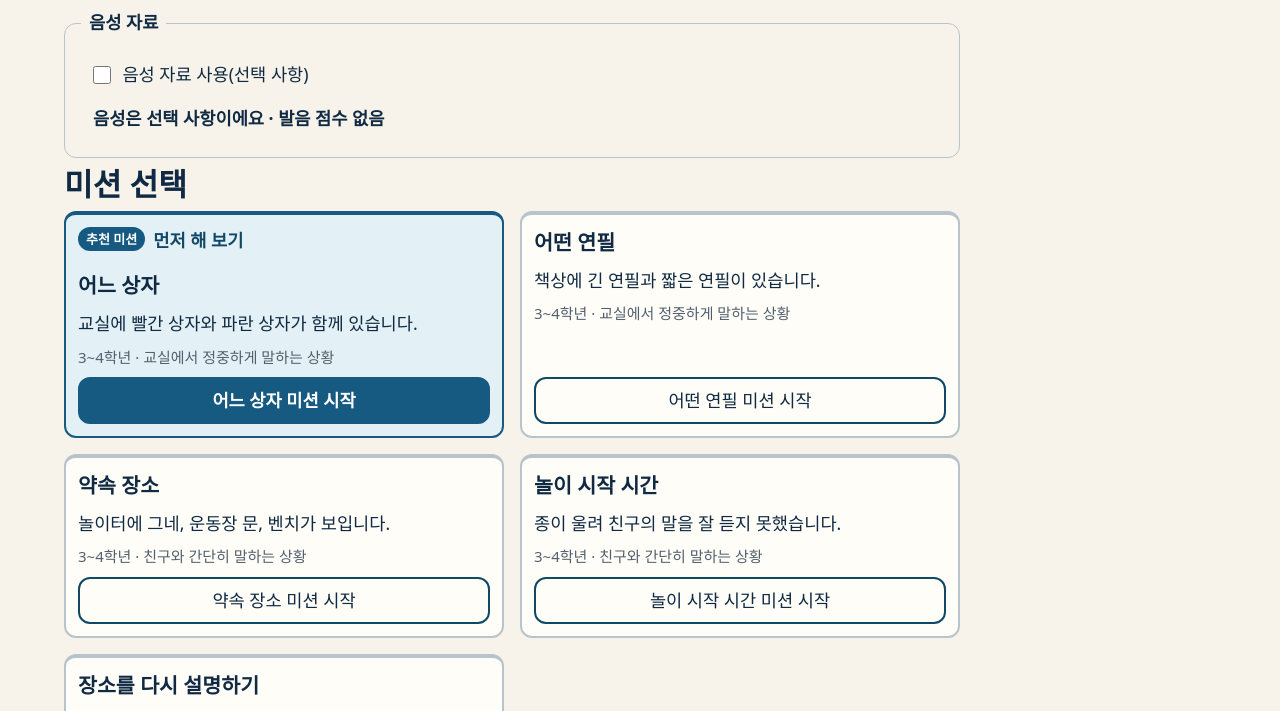
Test: signal center › starts only the selected mission and never asks for personal information
The width and height of the screenshot is (1280, 711).
(page scrolled)
Click the button "어느 상자 미션 시작" at (284, 400), box [78,377,490,424]
(page scrolled)
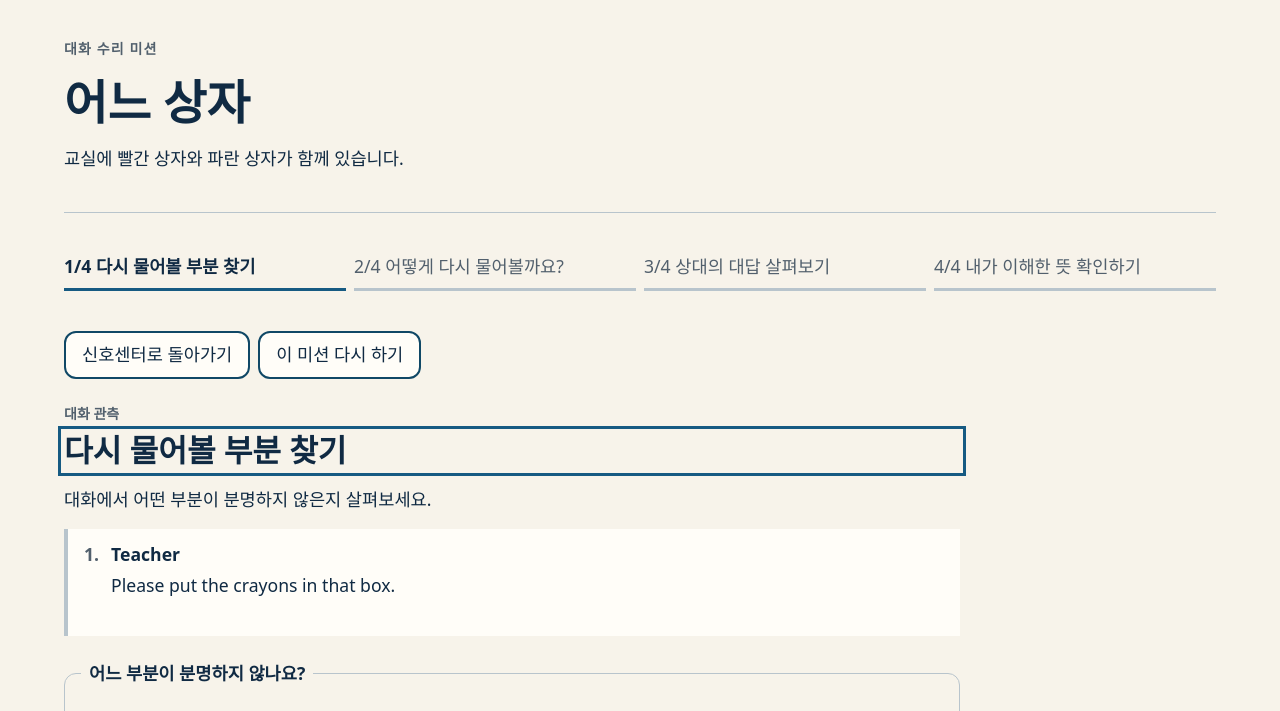
Expected: the heading "어느 상자" is shown, [64,70,250,134]
Now the heading "다시 물어볼 부분 찾기" is shown, box [64,429,347,471]
